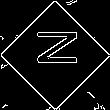N_W: (30, 35, 80, 75)
